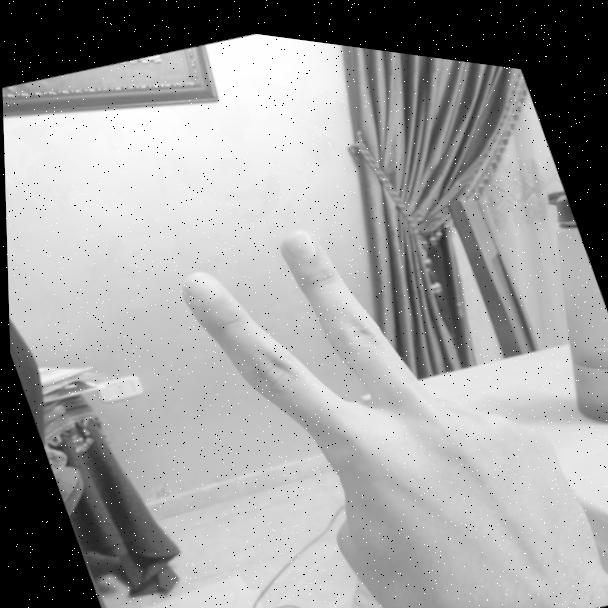two: (153, 150, 599, 608)
